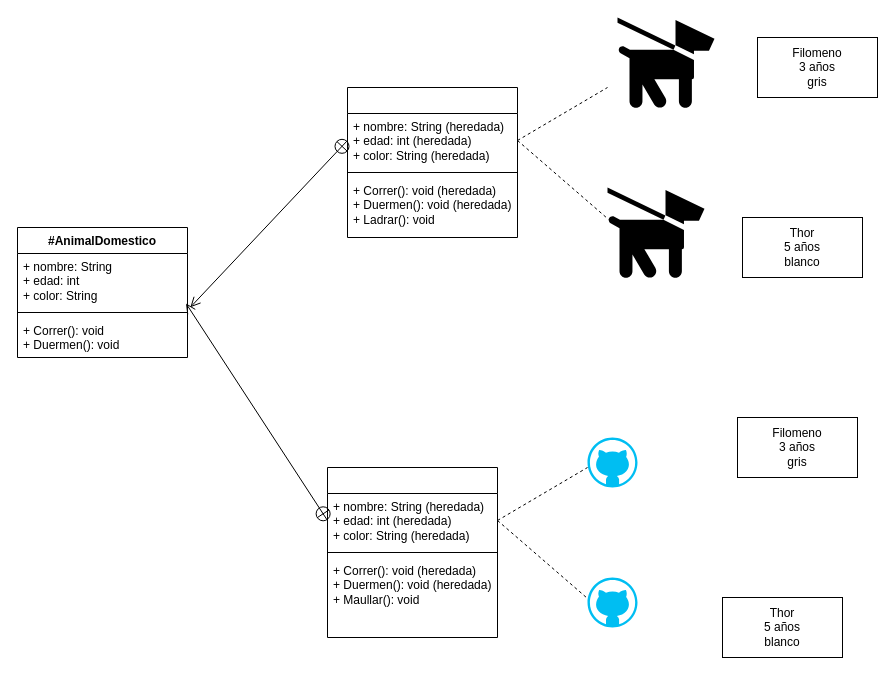
The diagram is 895 pixels wide and 675 high, and some of its shapes have lost their labels. Here are the shapes that lost their labels. From the top down, the box of each, then its label:
(346, 86, 518, 238): #Perro
(326, 466, 498, 638): #Gato : Animal
